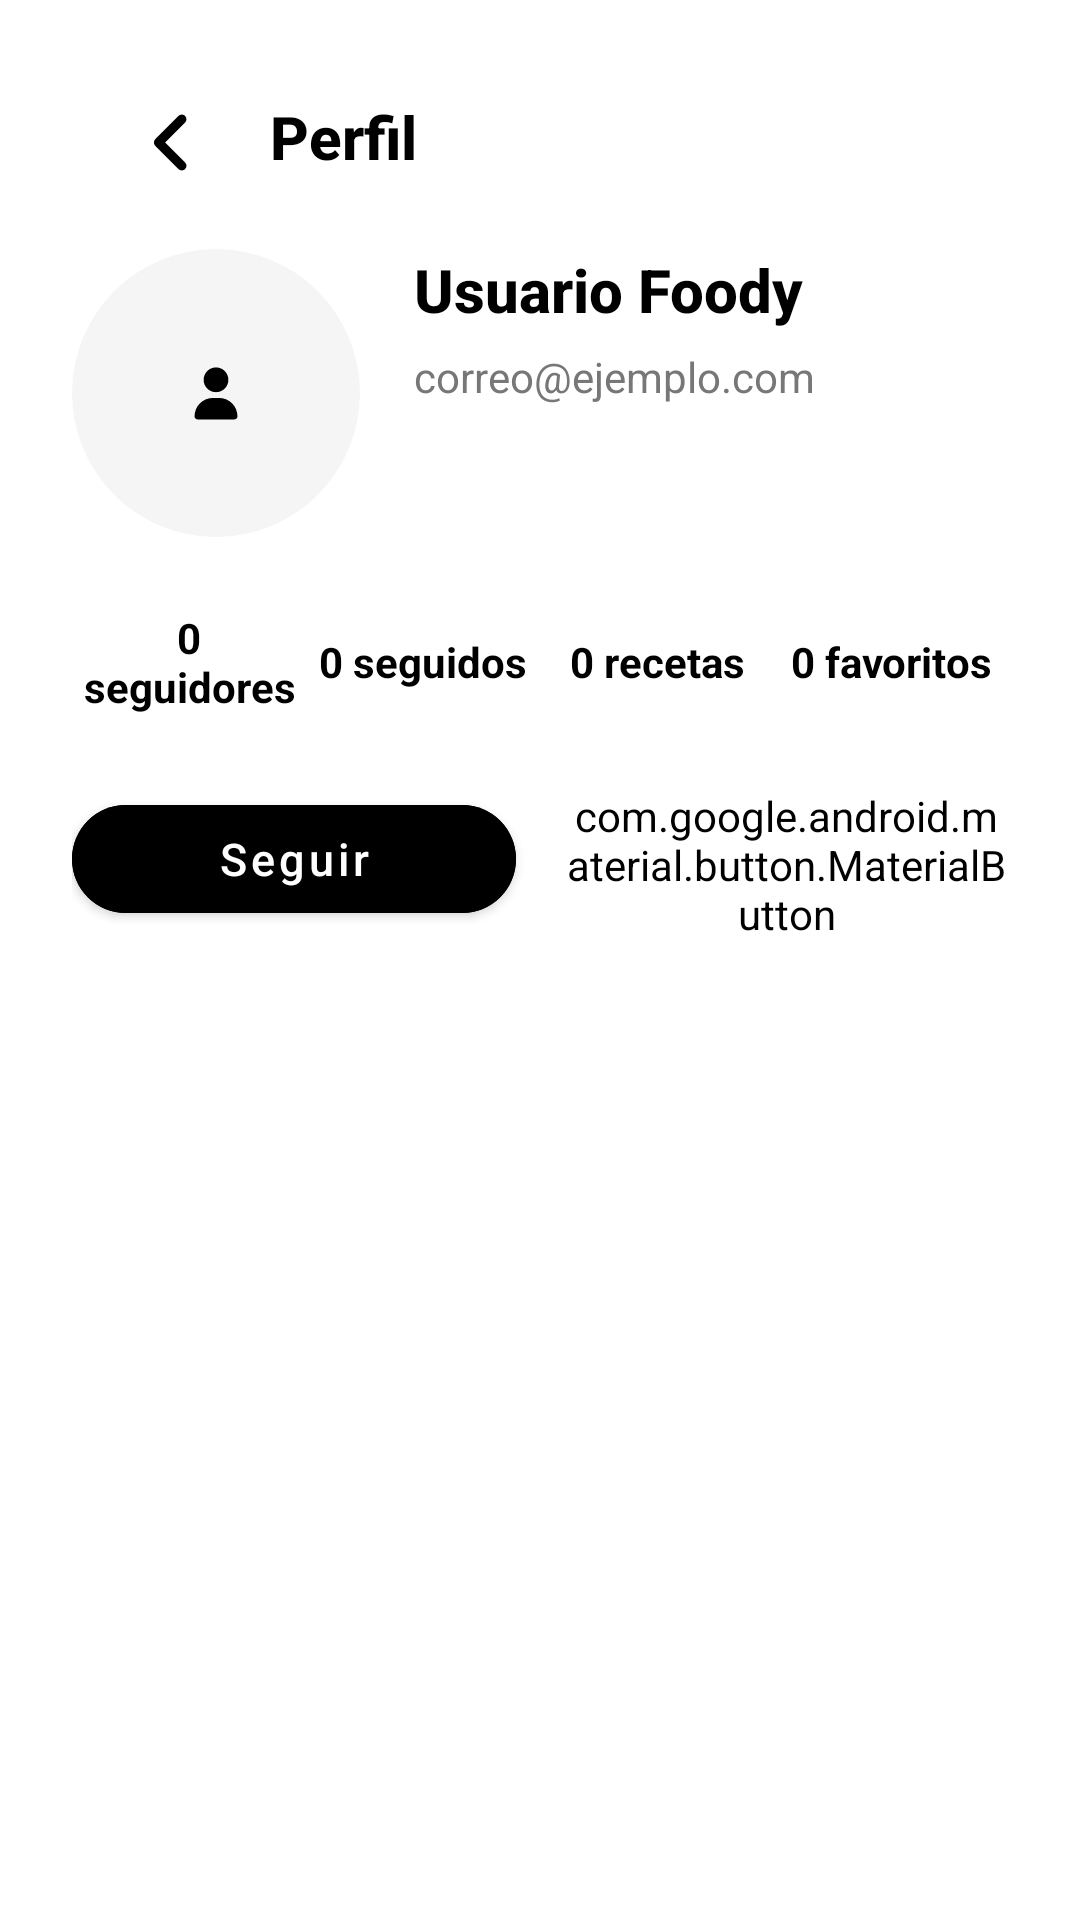

Named icons in this screenshot (1080×1920) and their centers, (x=x, y=y):
angle left full: (x=170, y=142)
profile: (x=216, y=393)
